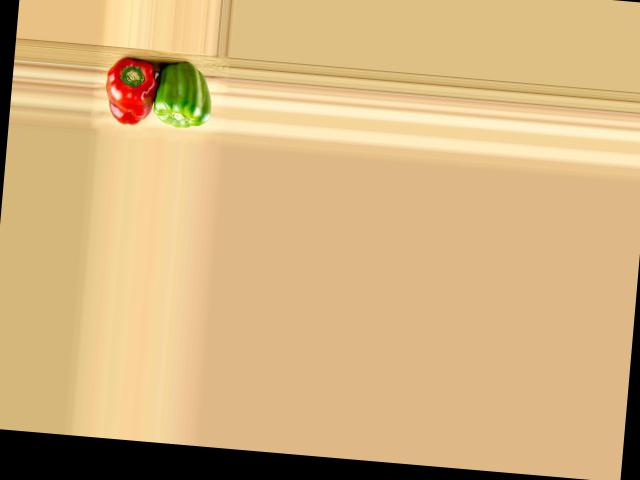bell_pepper: (101, 56, 161, 127)
